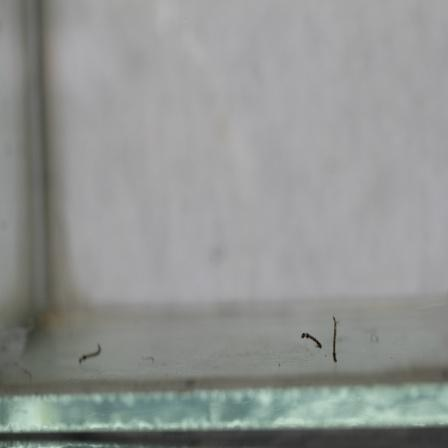Jentik-Nyamuk: (328, 309, 346, 370), (299, 326, 326, 357)
